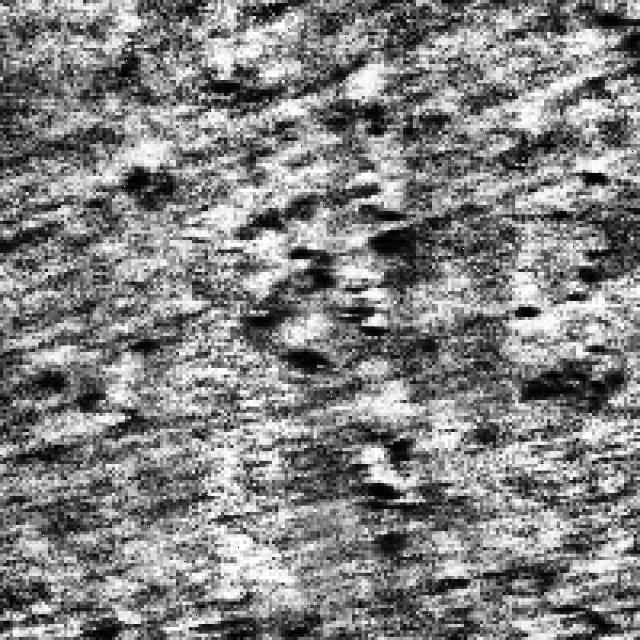Crazing: (236, 164, 404, 378), (352, 442, 493, 602)
